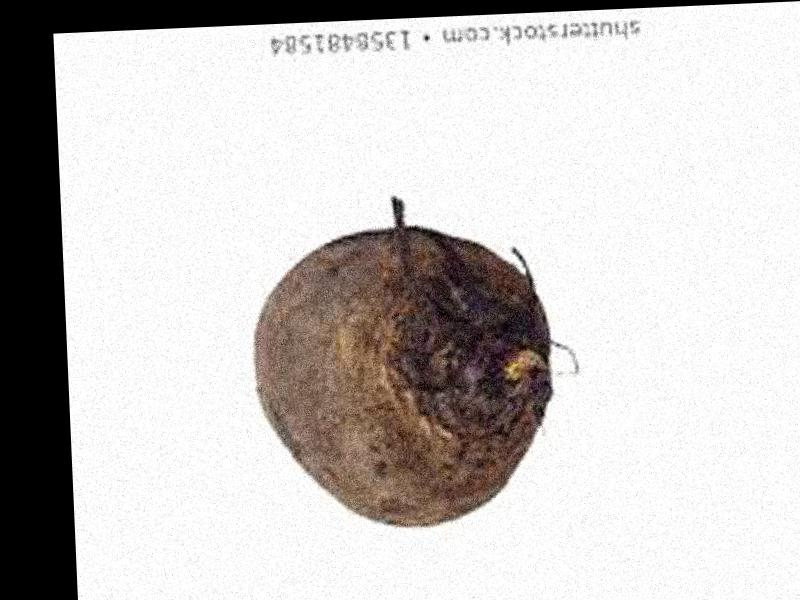Beet: (245, 223, 554, 533)
